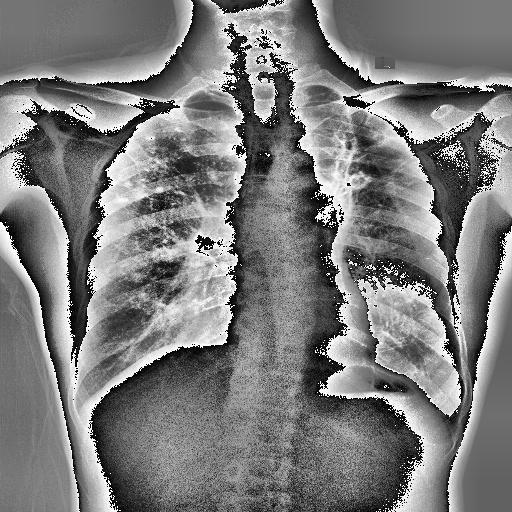10- Pleural effusion: (434, 400, 464, 436)
11- Pleural thickening: (326, 90, 396, 139), (422, 390, 464, 450), (434, 400, 464, 436)
13- Pulmonary fibrosis: (106, 118, 238, 321), (304, 90, 420, 254), (108, 118, 240, 212), (102, 123, 234, 206), (312, 110, 414, 186), (374, 160, 422, 186)
8- Nodule-Mass: (116, 194, 128, 204), (131, 271, 144, 280), (154, 184, 164, 194), (122, 181, 132, 188)
